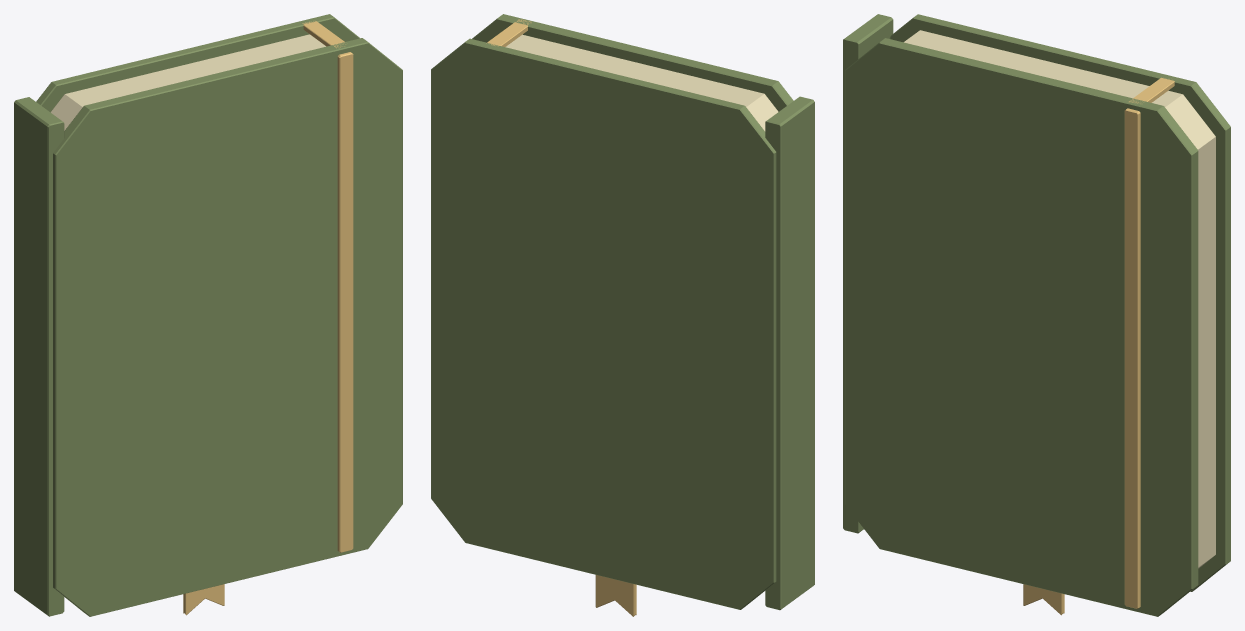
File: notebook.glb
3 views of the same model, side by side, from view 1: azimuth 30°, elevation 25°; view 2: azimuth 150°, elevation 25°; view 3: azimuth 330°, elevation 25° (orthographic).
Parts seen in each view (by area): view 1: notebook; view 2: notebook; view 3: notebook.
Part boxes in pixels (left/top/right/bottom): notebook: left=14, top=14, right=402, bottom=616; notebook: left=431, top=14, right=814, bottom=616; notebook: left=843, top=14, right=1230, bottom=616.
Size of the model in its own units: 0.147 by 0.2199 by 0.03.
